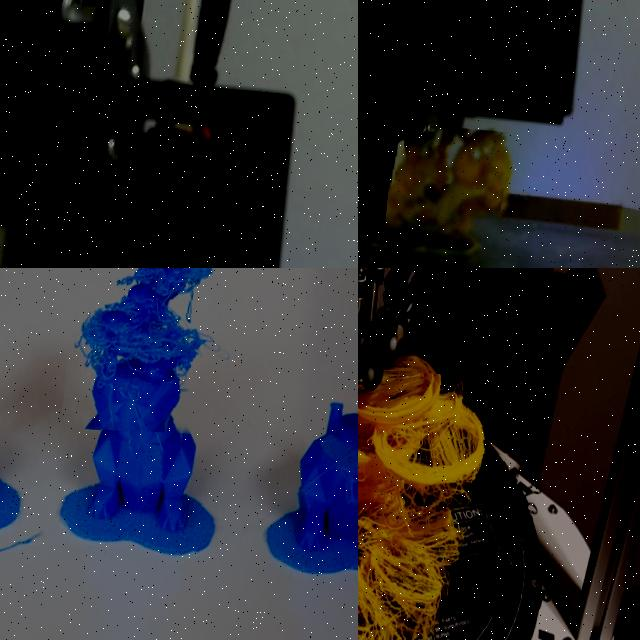spaghetti: (358, 353, 534, 640), (61, 268, 246, 442), (384, 129, 509, 238), (335, 453, 358, 553)
